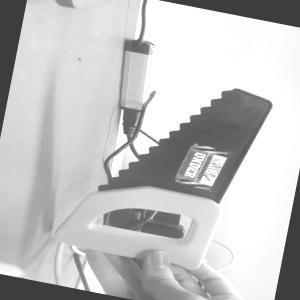serrote: (52, 57, 276, 275)
